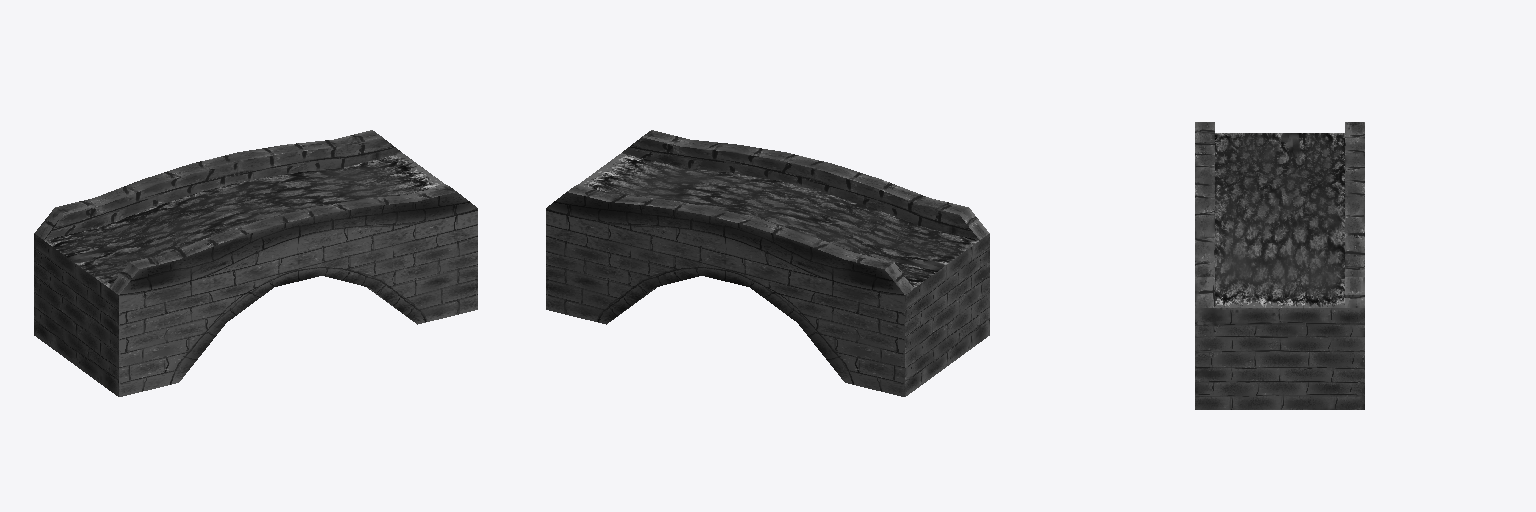
3 views of the same model, side by side, from view 1: azimuth 30°, elevation 25°; view 2: azimuth 150°, elevation 25°; view 3: azimuth 270°, elevation 25° (orthographic).
Parts seen in each view (by area): view 1: Cube.001_Cube.002; view 2: Cube.001_Cube.002; view 3: Cube.001_Cube.002.
Boxes of the visible parts, x1=… form: Cube.001_Cube.002: x1=34, y1=130, x2=477, y2=396; Cube.001_Cube.002: x1=546, y1=130, x2=989, y2=396; Cube.001_Cube.002: x1=1195, y1=122, x2=1364, y2=409.
Size of the model in its own units: 4.66 by 1.66 by 1.9.
Materials: 1 (1 with a texture image).